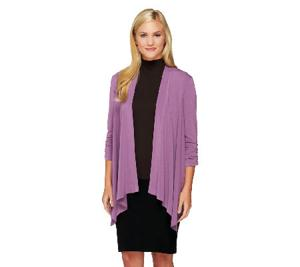C_cardigan sweater: (97, 61, 206, 218)
